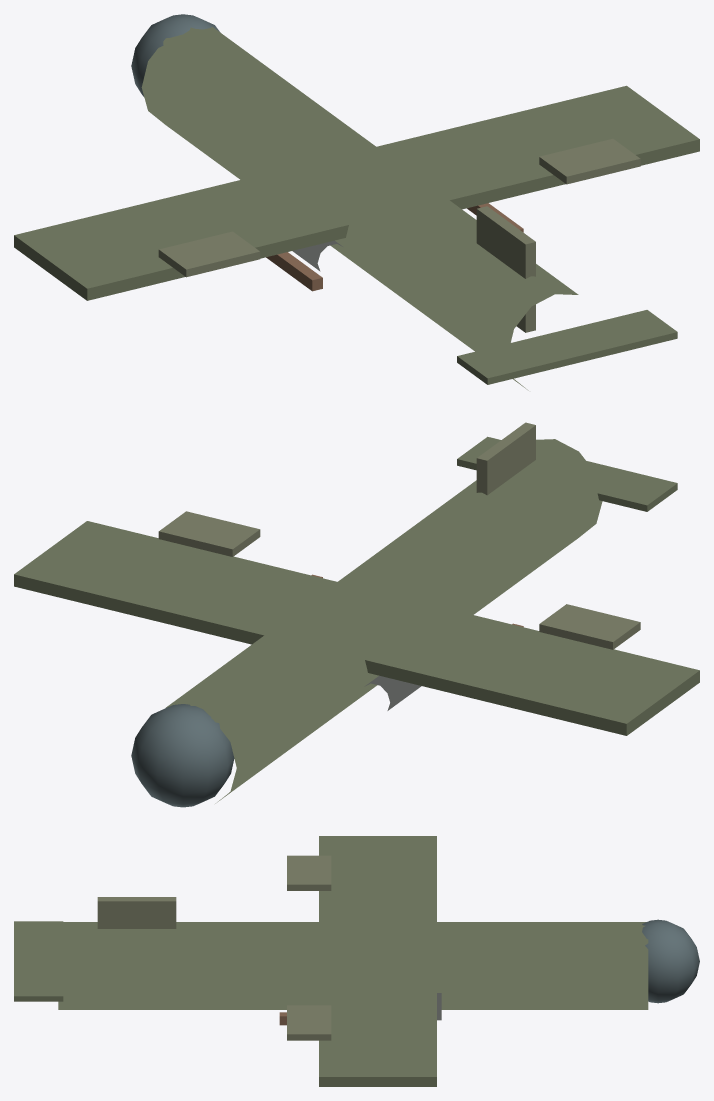
The picture shows the model from 3 angles, top to bottom: view 1: azimuth 30°, elevation 25°; view 2: azimuth 150°, elevation 25°; view 3: azimuth 270°, elevation 25°; orthographic projection. The views are drawn at different scales.
Parts seen in each view (by area): view 1: body; view 2: body; view 3: body.
Boxes of the visible parts, x1,y1,x2,y2 form: body: (14, 14, 699, 390); body: (14, 422, 699, 807); body: (14, 836, 699, 1086).
Size of the model in its own units: 11.6 by 2.4 by 13.95.
